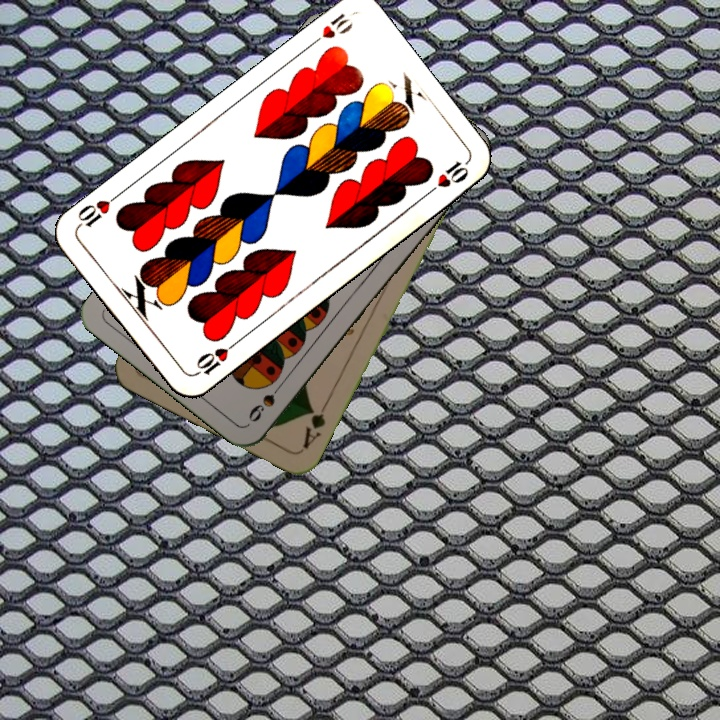GA: (298, 396, 331, 452)
H10: (303, 9, 356, 51), (190, 337, 240, 379)
S9: (244, 376, 288, 425)
